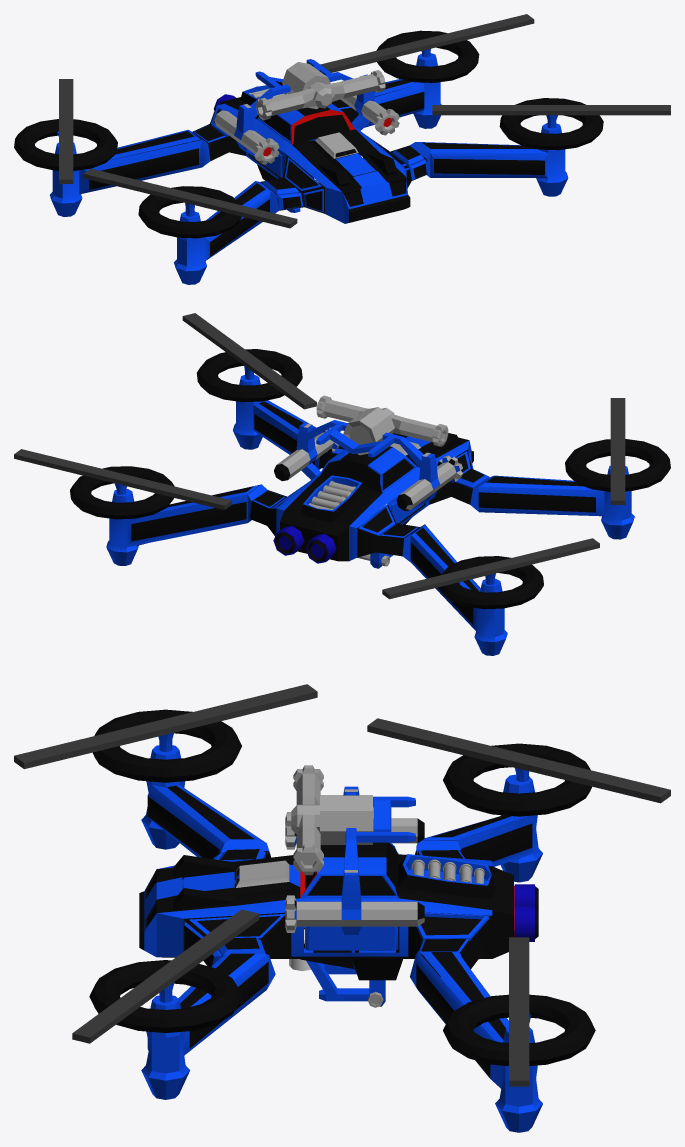
Rendered from drone.fbx.
3 views of the same model, one above another, from view 1: azimuth 30°, elevation 25°; view 2: azimuth 150°, elevation 25°; view 3: azimuth 270°, elevation 25° (orthographic). The views are drawn at different scales.
Parts seen in each view (by area): view 1: drone_costum, Wing002, Wing003, Wing001, Wing004; view 2: drone_costum, Wing004, Wing001, Wing002, Wing003, light_blue_0, light_blue_1; view 3: drone_costum, Wing004, Wing003, Wing002, Wing001, light_blue_1.
Boxes of the visible parts, x1,y1,x2,y2 form: drone_costum: (14, 30, 603, 284); Wing002: (432, 105, 670, 115); Wing003: (83, 168, 297, 228); Wing001: (320, 14, 534, 72); Wing004: (59, 79, 73, 183); drone_costum: (70, 349, 670, 655); Wing004: (382, 538, 599, 599); Wing001: (14, 449, 231, 509); Wing002: (182, 313, 316, 409); Wing003: (610, 398, 625, 504); light_blue_0: (306, 533, 336, 563); light_blue_1: (273, 526, 303, 555); drone_costum: (89, 709, 595, 1132); Wing004: (367, 718, 670, 803); Wing003: (14, 684, 317, 769); Wing002: (72, 909, 259, 1043); Wing001: (509, 937, 529, 1086); light_blue_1: (514, 906, 534, 941).
Size of the model in its own units: 12.62 by 3.35 by 9.7.
